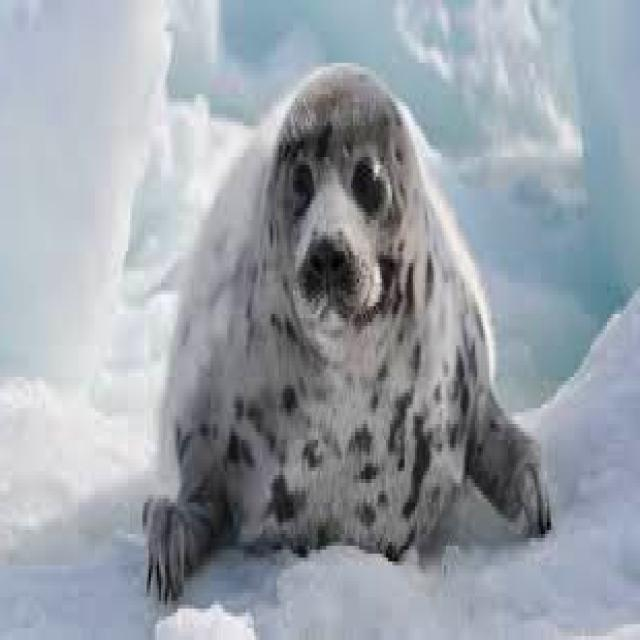seal: (145, 63, 551, 597)
